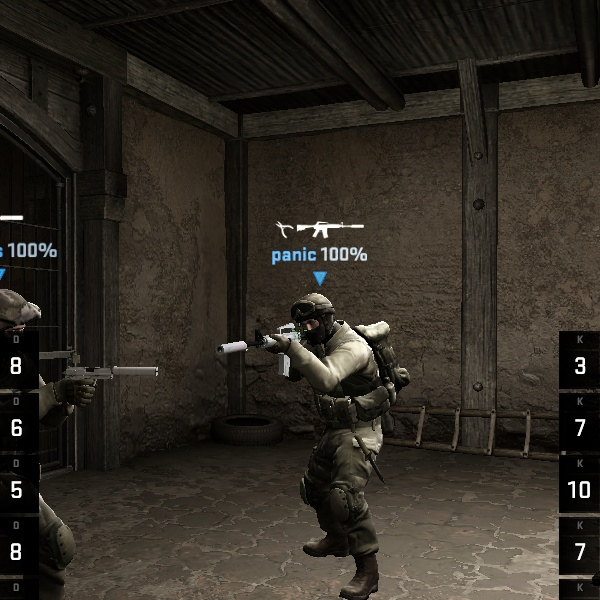ct_body: (246, 287, 401, 582)
ct_head: (283, 291, 343, 351)
